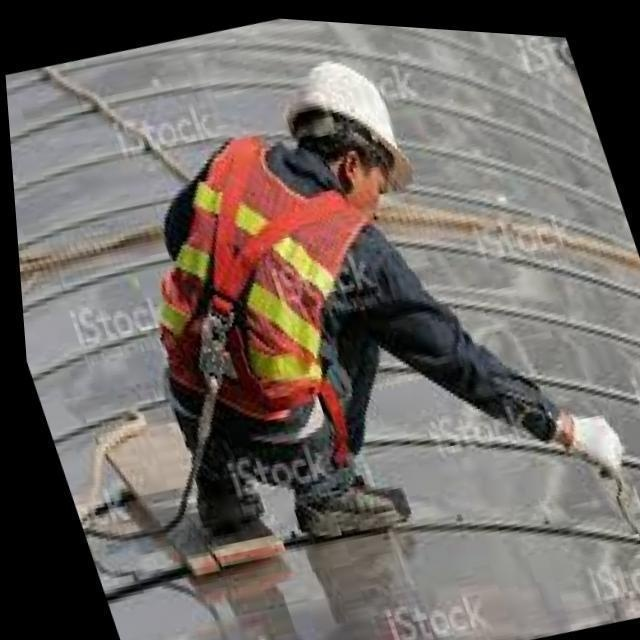Arnes_seguridad: (186, 127, 358, 484)
